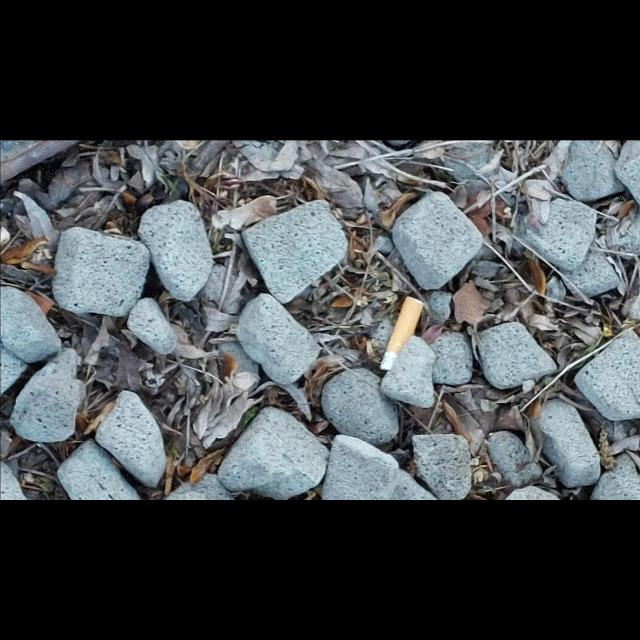cigarette: (379, 295, 425, 370)
